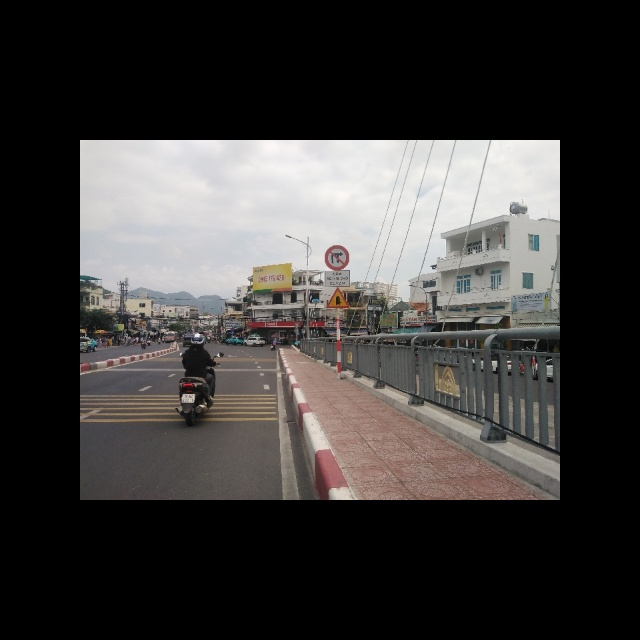Cấm quay đầu và rẽ phải: (323, 245, 350, 270)
Giao nhau với đường không ưu tiên: (326, 287, 350, 308)
